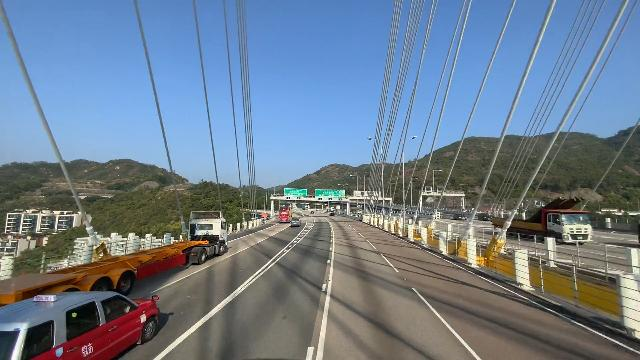bus: (278, 205, 291, 223)
car: (0, 288, 163, 360), (290, 215, 303, 227), (477, 212, 493, 221), (452, 213, 468, 220), (329, 212, 335, 216), (300, 213, 305, 217), (310, 211, 314, 214)
truck: (0, 211, 229, 304), (496, 206, 591, 253)
